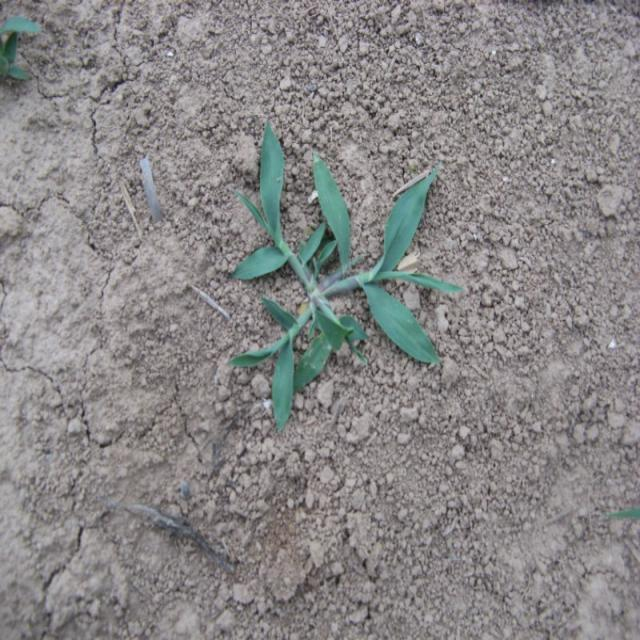bg: (238, 124, 461, 425)
